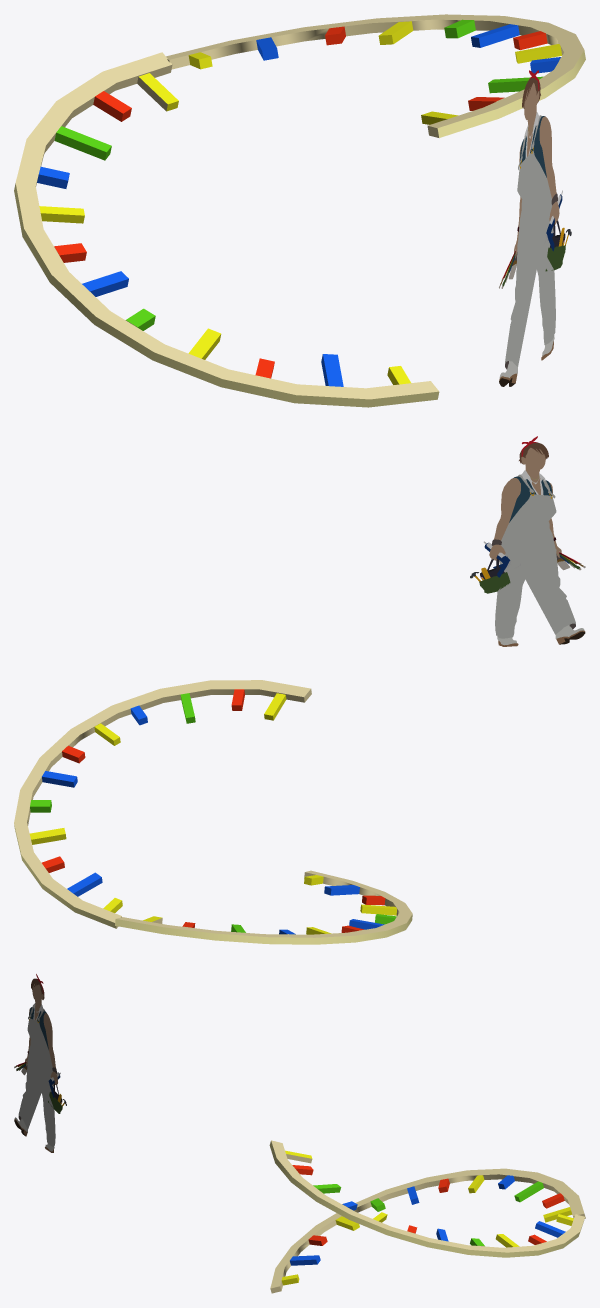
The model's file is rna.obj.
The picture shows the model from 3 angles, top to bottom: view 1: azimuth 30°, elevation 25°; view 2: azimuth 150°, elevation 25°; view 3: azimuth 270°, elevation 25°; orthographic projection. The views are drawn at different scales.
Parts seen in each view (by area): view 1: Mesh1 Group1 Model, Mesh2 Group2 Model, Mesh3 Lisanne1 Model; view 2: Mesh3 Lisanne1 Model, Mesh2 Group2 Model, Mesh1 Group1 Model; view 3: Mesh1 Group1 Model, Mesh2 Group2 Model, Mesh3 Lisanne1 Model.
Boxes of the visible parts, left/top/right/bottom form: Mesh1 Group1 Model: left=14, top=52, right=439, bottom=407; Mesh2 Group2 Model: left=166, top=14, right=585, bottom=137; Mesh3 Lisanne1 Model: left=499, top=70, right=571, bottom=386; Mesh3 Lisanne1 Model: left=470, top=436, right=585, bottom=646; Mesh2 Group2 Model: left=14, top=680, right=311, bottom=928; Mesh1 Group1 Model: left=115, top=870, right=412, bottom=944; Mesh1 Group1 Model: left=270, top=1168, right=585, bottom=1293; Mesh2 Group2 Model: left=269, top=1140, right=584, bottom=1257; Mesh3 Lisanne1 Model: left=14, top=974, right=66, bottom=1152.
Size of the model in its own units: 116 by 113 by 204.
